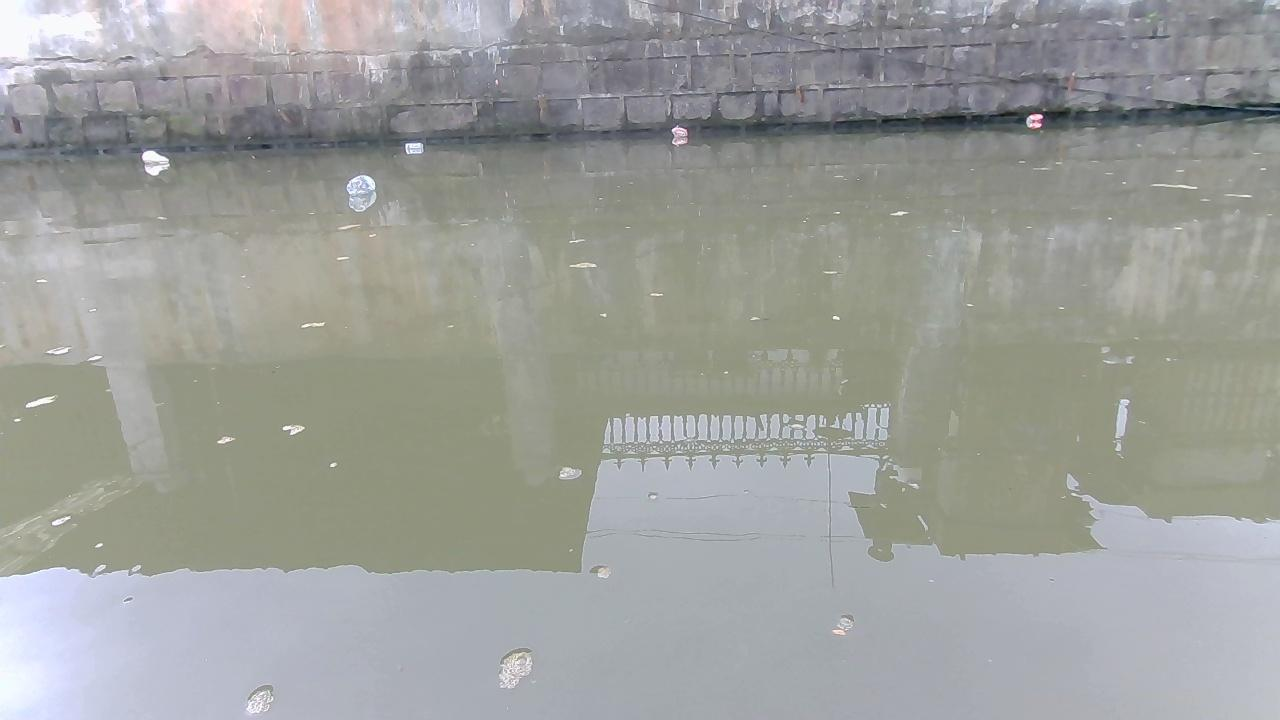bottle: (345, 172, 377, 201), (666, 122, 689, 142), (140, 149, 166, 165), (402, 138, 423, 154), (1026, 110, 1041, 132)
